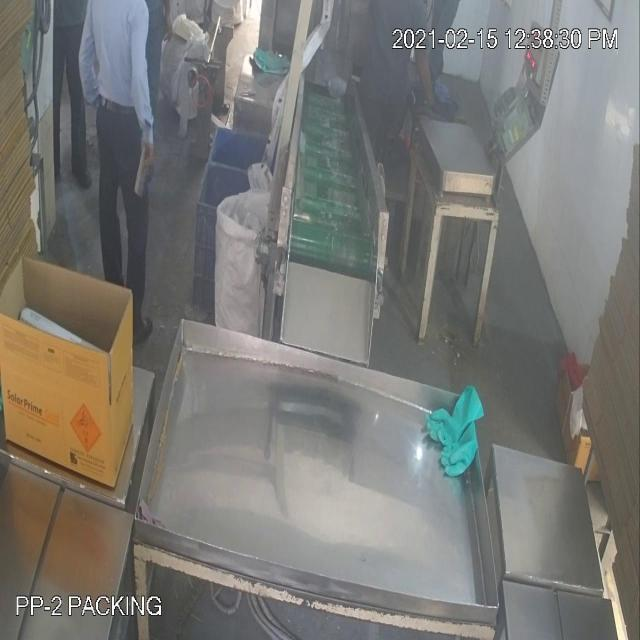No_Gloves: (33, 88, 427, 162)
